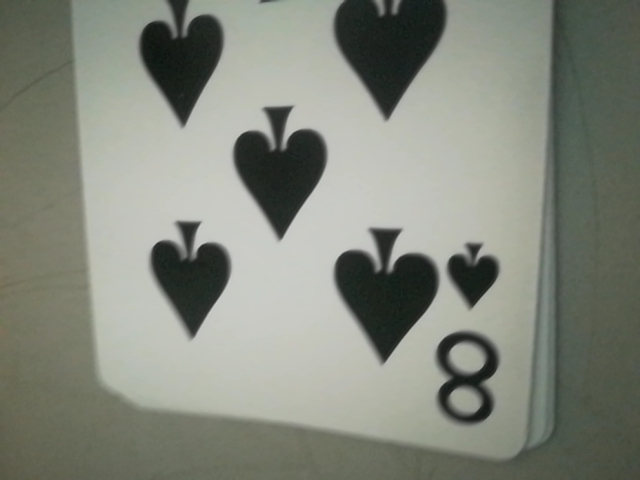ht 8: (429, 237, 511, 436)
